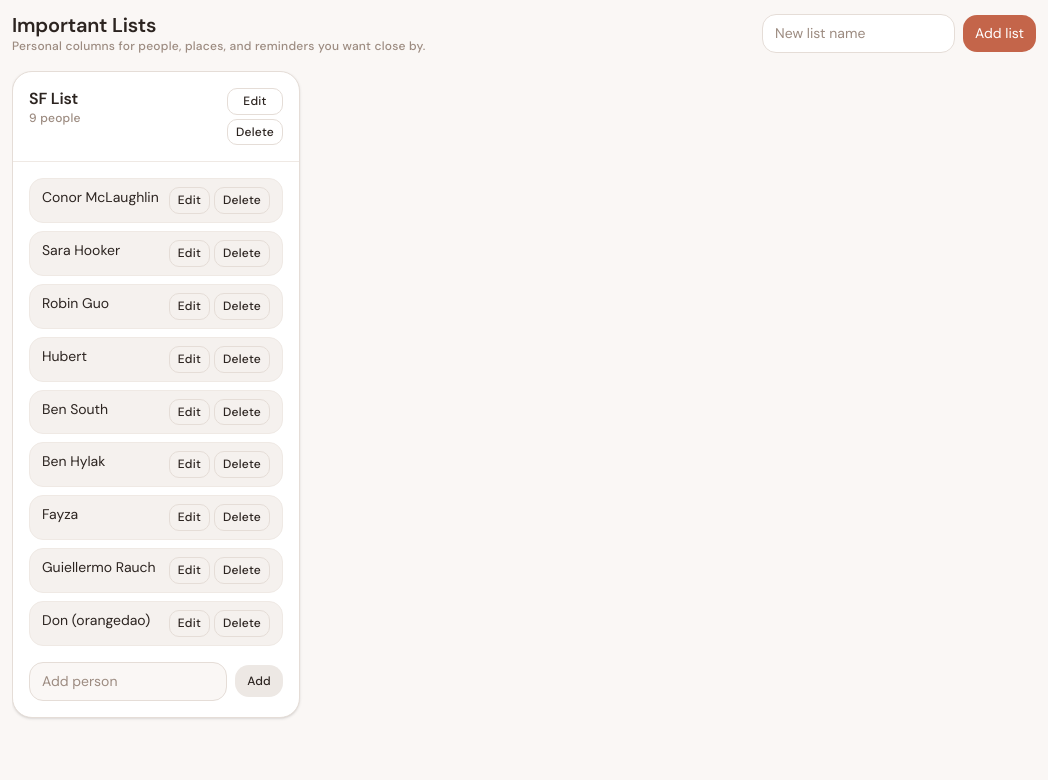
Test: ImportantLists › allows deleting a person from a list
The width and height of the screenshot is (1048, 780).
Click the button with aria-label "delete item robin guo": click(242, 306) left=214, top=293, right=270, bottom=320
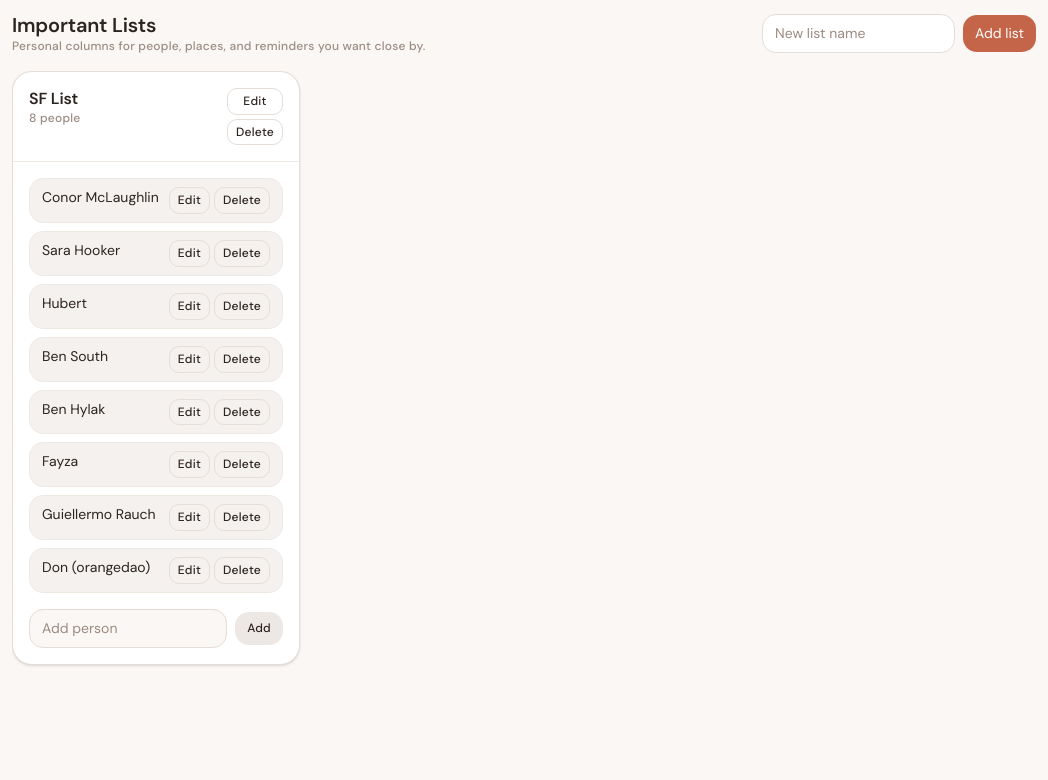
Check: the text "Robin Guo" is gone
